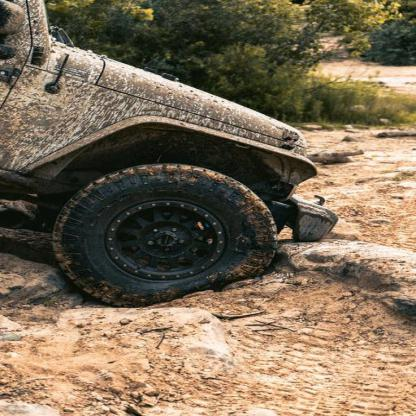Tire: (47, 162, 278, 308)
